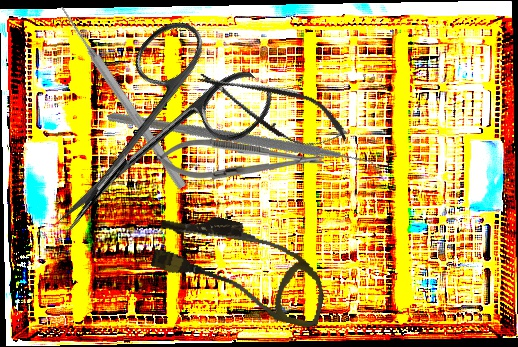Cannula: (145, 203, 337, 331)
Chopper: (106, 28, 385, 268)
Iris Scissors: (16, 6, 280, 275)
Micro Scissor: (189, 53, 356, 163)
Needle Holder: (156, 137, 325, 183)
Pusher: (56, 3, 189, 191)
